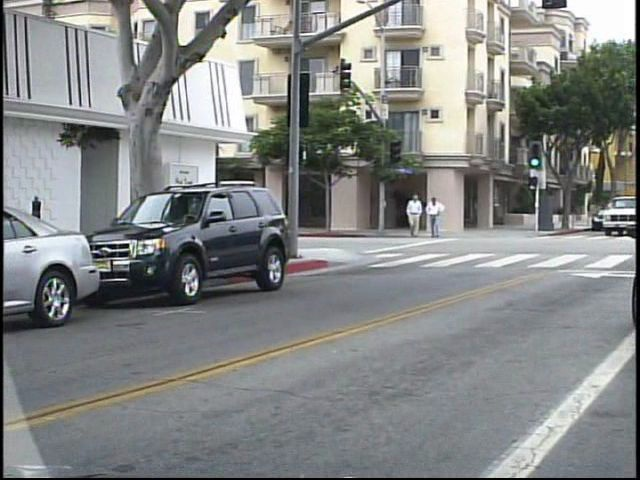person: (423, 192, 446, 242), (402, 190, 422, 243)
